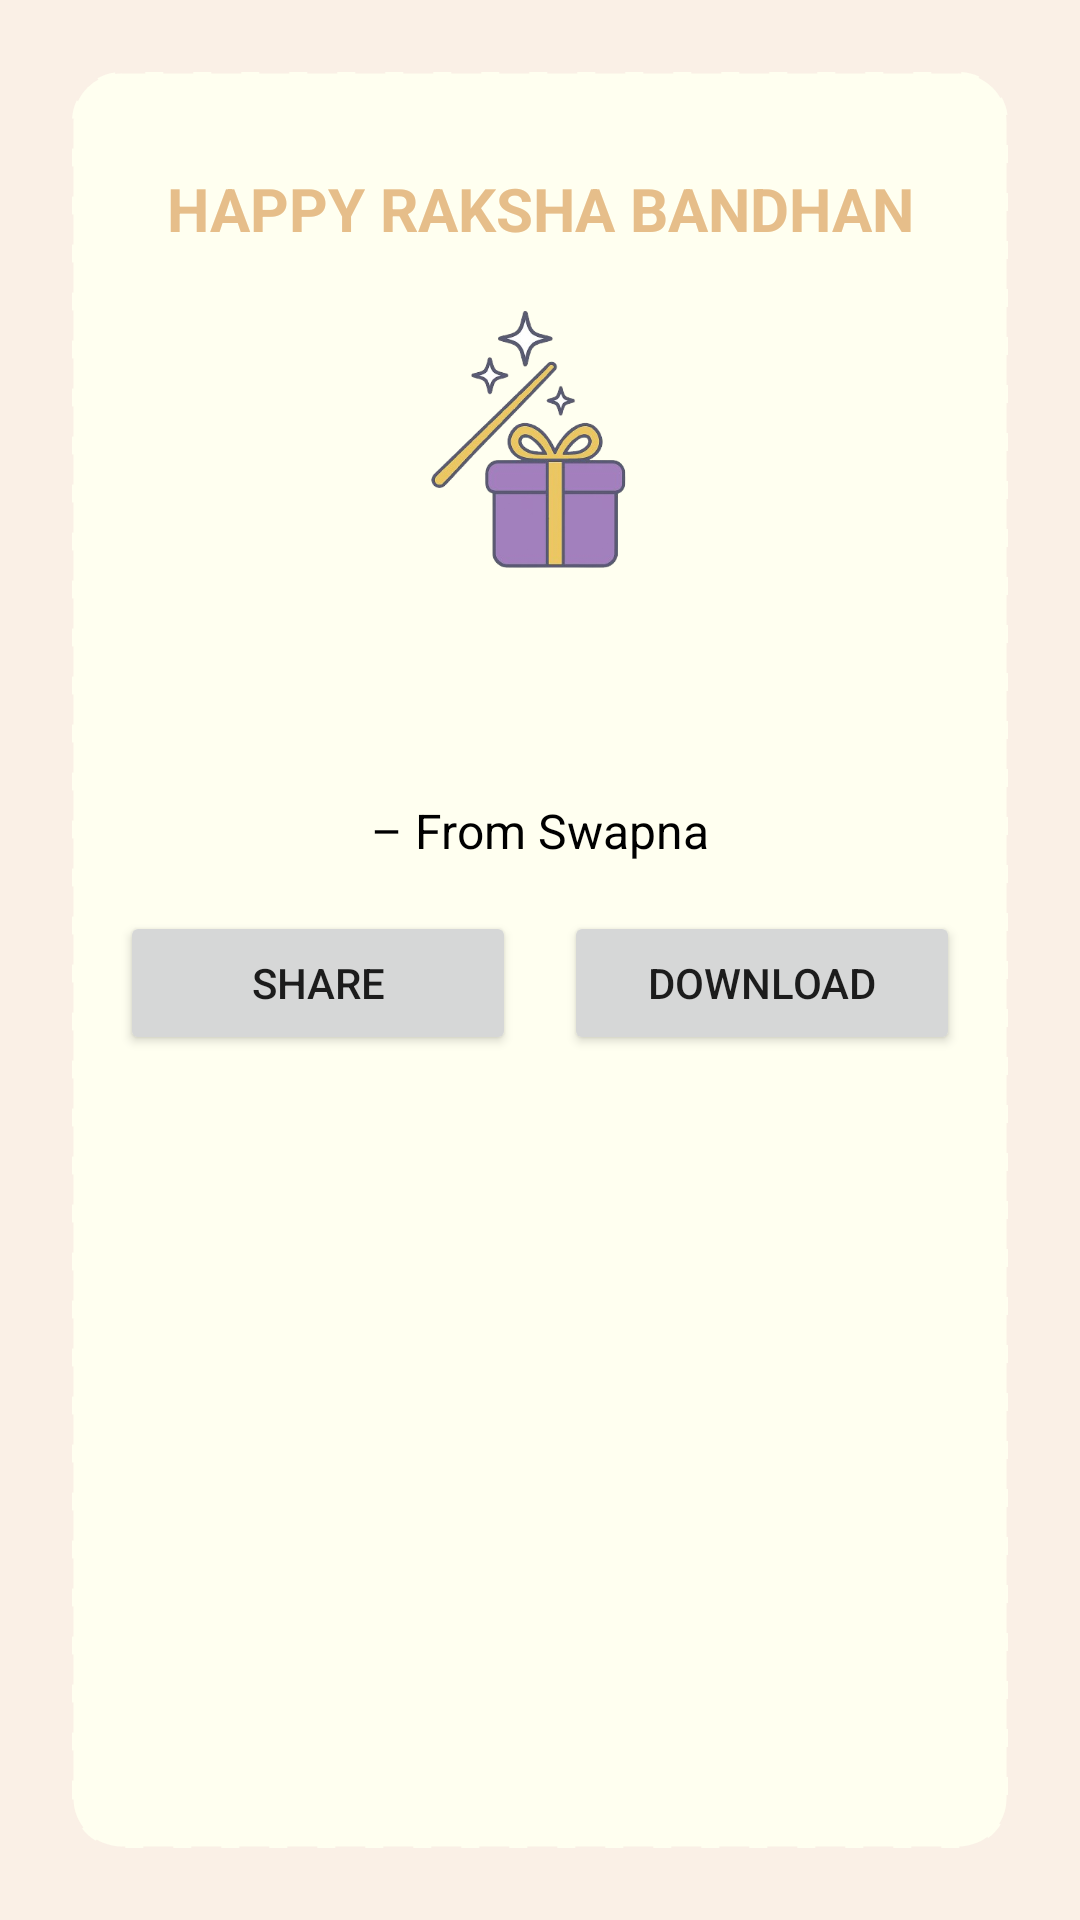

Named icons in this screenshot (1080px x 1920px) and their bounding boxes, region(x1, y1, x2, y2):
gift box: region(431, 311, 626, 568)
